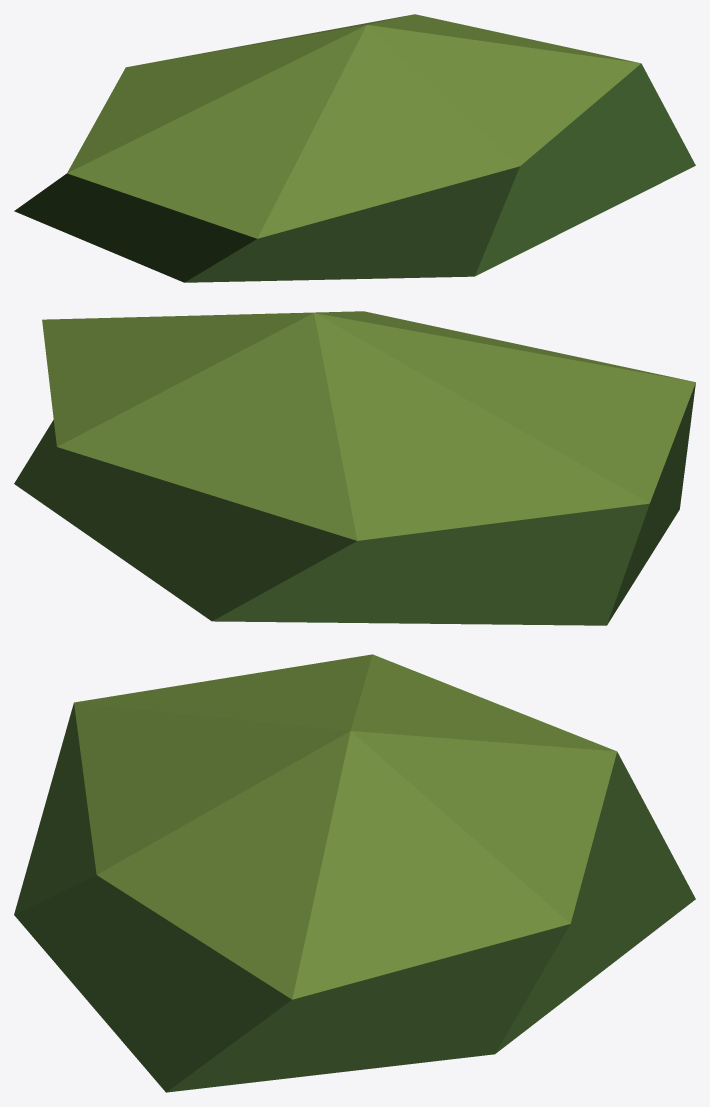
The model's file is gf_pebble_g.glb.
3 views of the same model, one above another, from view 1: azimuth 30°, elevation 25°; view 2: azimuth 150°, elevation 25°; view 3: azimuth 270°, elevation 25° (orthographic). The views are drawn at different scales.
Parts seen in each view (by area): view 1: gf_pebble_g; view 2: gf_pebble_g; view 3: gf_pebble_g.
Part boxes in pixels (box(x1,y1,x2,y2)): gf_pebble_g: box(14, 14, 695, 282); gf_pebble_g: box(14, 311, 695, 625); gf_pebble_g: box(14, 654, 695, 1092).
Bounding box in the file's own units: 0.1077 × 0.028 × 0.0875.
